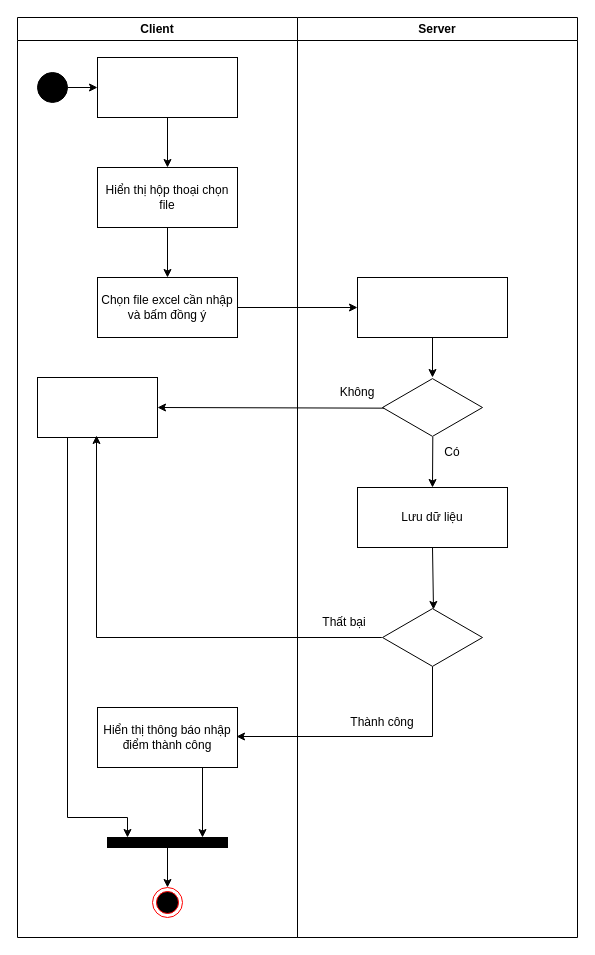
Some shapes in this 595 by 955 pixel diagram are drawn without their labels. The centre of each missing label's shape, as x and y in pixels:
Chọn chức năng nhập điểm từ excel: pixel 167 87
Hiển thị thông báo lỗi: pixel 97 407
Kiểm tra dữ liệu file nhập vào có hợp lệ hay không: pixel 432 307
